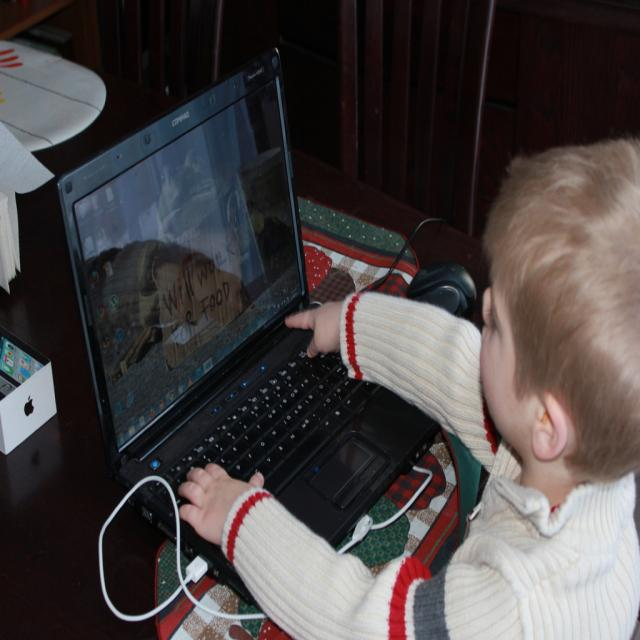Laptop: (54, 73, 448, 611)
